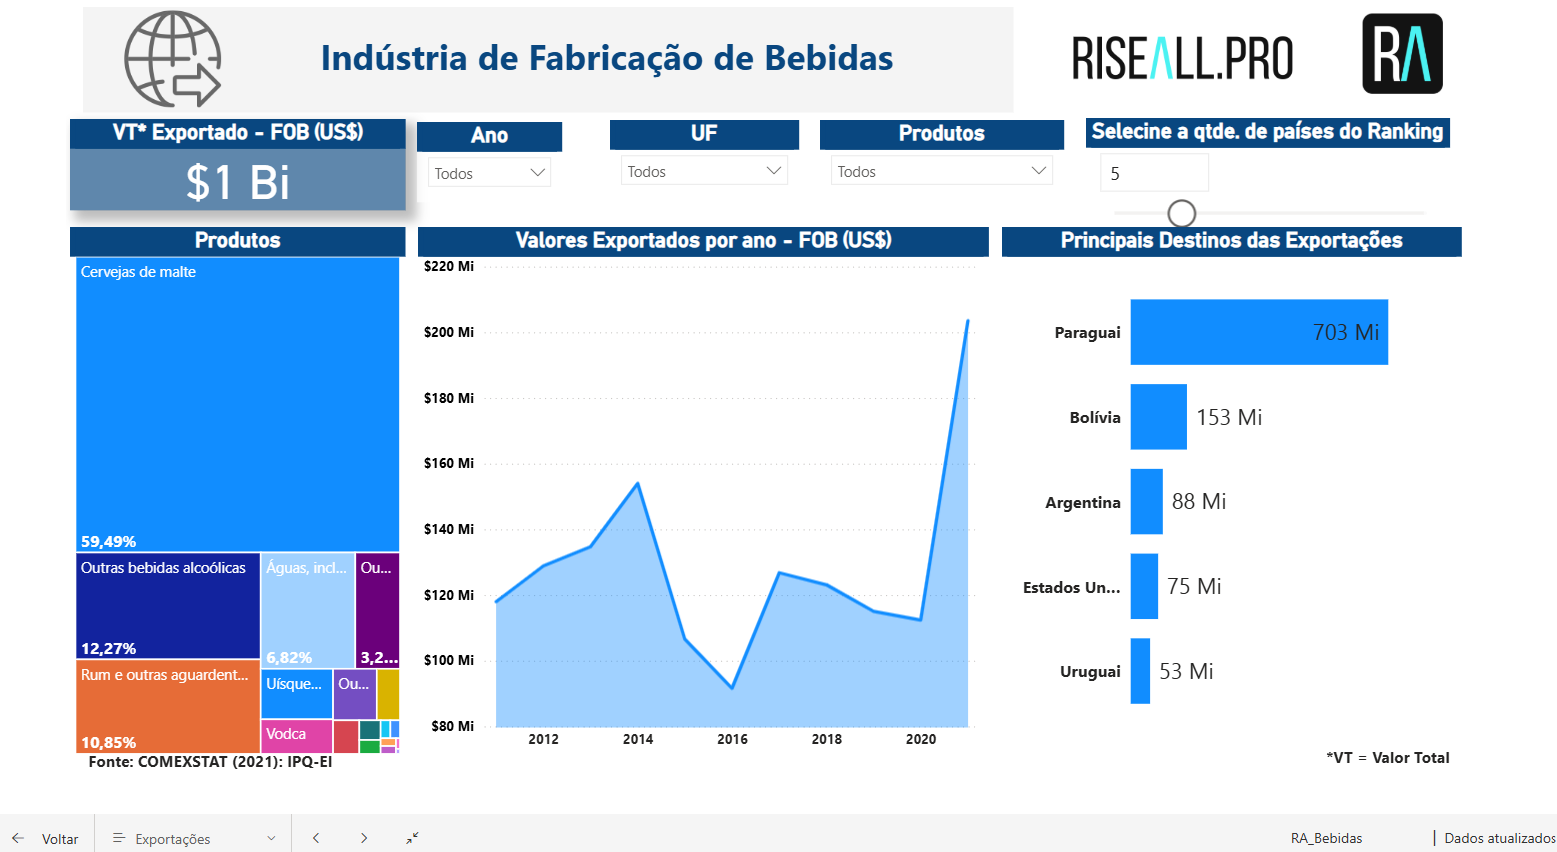

Layout of this report page (visuals, bound fields, positions):
{"tool":"powerbi","page":{"name":"Exportações","canvas":[1280,720],"ordinal":4},"visuals":[{"type":"image","title":"Exportação","box":[40.2,8.6,115,97.7],"z":1000},{"type":"areaChart","title":"Valores Exportados por ano -  FOB (US$)","fields":{"Y":["Comércio_Exterior.Exportação"],"Category":["Comércio_Exterior.Ano*.Variation.Hierarquia de datas.Ano"]},"box":[320,210,519,484],"z":2000},{"type":"card","title":"VT* Exportado - FOB (US$)","fields":{"Values":["Comércio_Exterior.Exportação"]},"box":[4,112,305,83.4],"z":3000},{"type":"slicer","title":"Ano","fields":{"Values":["Comércio_Exterior.Ano*.Variation.Hierarquia de datas.Ano"]},"box":[319,115,132.2,73.3],"z":4000},{"type":"treemap","title":"Produtos","fields":{"Group":["Comércio_Exterior.Descrição NCM"],"Values":["Comércio_Exterior.Exportação"]},"box":[4,210,305,484],"z":5000},{"type":"clusteredBarChart","title":"Principais Destinos das Exportações","fields":{"Y":["Comércio_Exterior.Valor_Total_Exp"],"Category":["Comércio_Exterior.País Externo"]},"box":[851,210,418,471.4],"z":6000},{"type":"slicer","title":"Selecine a qtde. de países do  Ranking","fields":{"Values":["N_Maiores_Exp.N_Maiores_Exp"]},"box":[926.9,110.7,330.5,99.2],"z":7000},{"type":"textbox","box":[15.8,10.1,846.5,96.3],"z":9000},{"type":"slicer","title":"UF","fields":{"Values":["Comércio_Exterior.UF "]},"box":[494.8,112.4,171.7,73.4],"z":10000},{"type":"slicer","title":"Produtos","fields":{"Values":["Comércio_Exterior.Descrição NCM"]},"box":[685.3,112.4,221.7,73.4],"z":11000},{"type":"textbox","box":[15.8,681.2,241.4,38.8],"z":12000},{"type":"textbox","box":[1140.6,676.9,139.4,28.7],"z":13000},{"type":"image","box":[911.1,23.5,208.7,64.5],"z":13001},{"type":"image","box":[1172.6,10.6,84.4,83.3],"z":13002}]}

Visuals, with their boxes on the page's 1280x720 design canvas (x1, y1, x2, y2). These are canvas units, not pixel positions in the 1557x852 screenshot, which may show the page scaled, cropped or inside an application window:
"Exportação" image: left=40, top=9, right=155, bottom=106
"Valores Exportados por ano -  FOB (US$)" areaChart: left=320, top=210, right=839, bottom=694
"VT* Exportado - FOB (US$)" card: left=4, top=112, right=309, bottom=195
"Ano" slicer: left=319, top=115, right=451, bottom=188
"Produtos" treemap: left=4, top=210, right=309, bottom=694
"Principais Destinos das Exportações" clusteredBarChart: left=851, top=210, right=1269, bottom=681
"Selecine a qtde. de países do  Ranking" slicer: left=927, top=111, right=1257, bottom=210
textbox: left=16, top=10, right=862, bottom=106
"UF" slicer: left=495, top=112, right=666, bottom=186
"Produtos" slicer: left=685, top=112, right=907, bottom=186
textbox: left=16, top=681, right=257, bottom=720
textbox: left=1141, top=677, right=1280, bottom=706
image: left=911, top=24, right=1120, bottom=88
image: left=1173, top=11, right=1257, bottom=94
